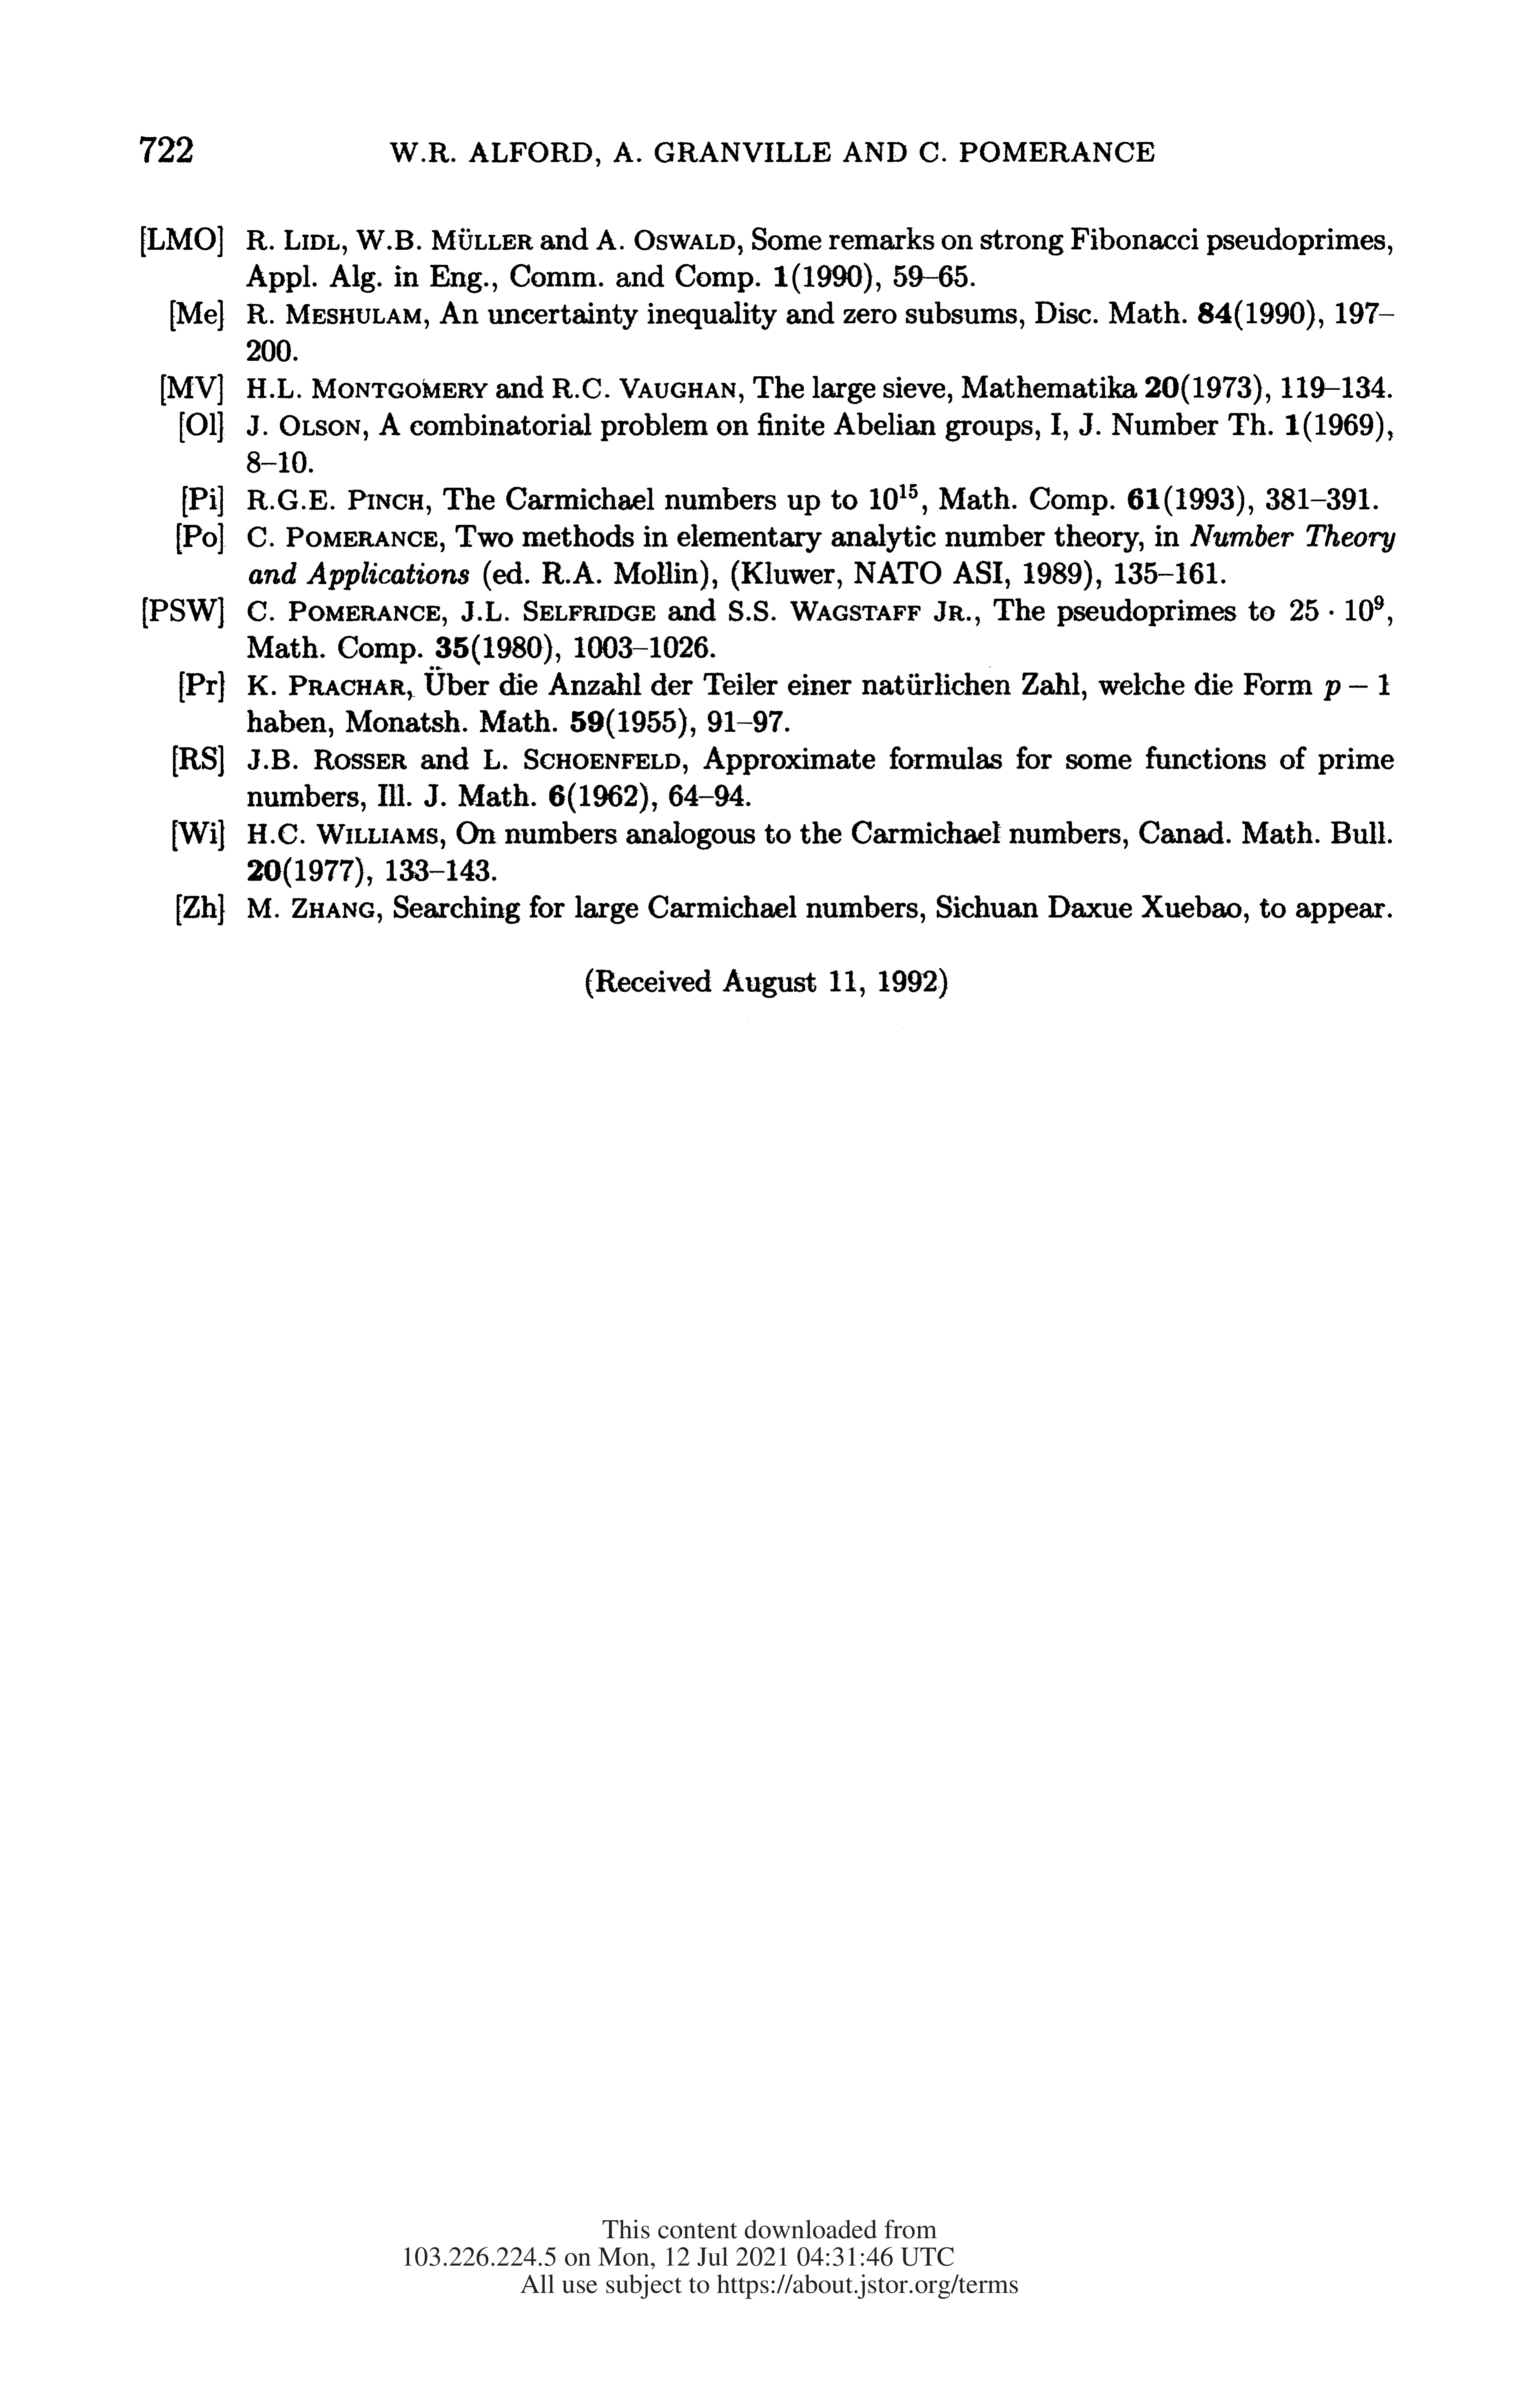maths: (1324, 674, 1389, 700), (870, 484, 917, 509), (1345, 595, 1384, 621)
